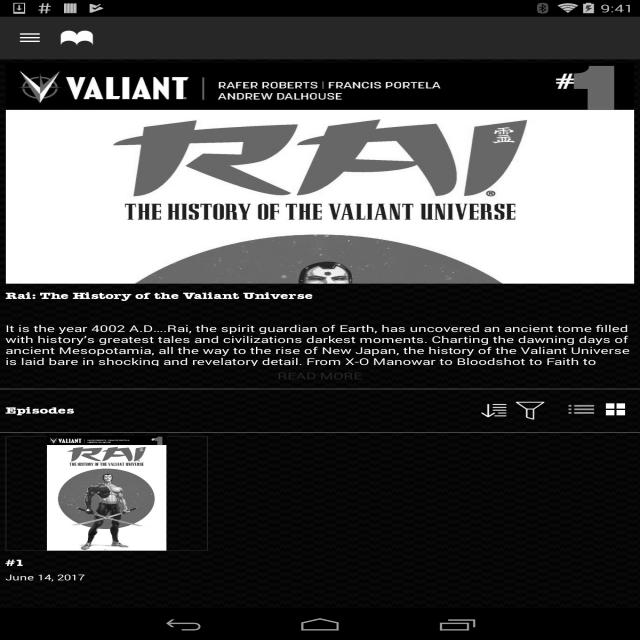ImageButton: (0, 30, 60, 46)
ImageView: (0, 59, 640, 608), (5, 62, 635, 284), (5, 436, 208, 551), (511, 398, 549, 422), (477, 398, 511, 422), (60, 27, 94, 49)
RadioButton: (564, 399, 598, 420), (598, 399, 632, 420)
TextView: (5, 322, 635, 366), (5, 290, 635, 302), (5, 305, 635, 315), (5, 558, 116, 568), (5, 572, 116, 582), (277, 369, 362, 382), (5, 405, 74, 416)
